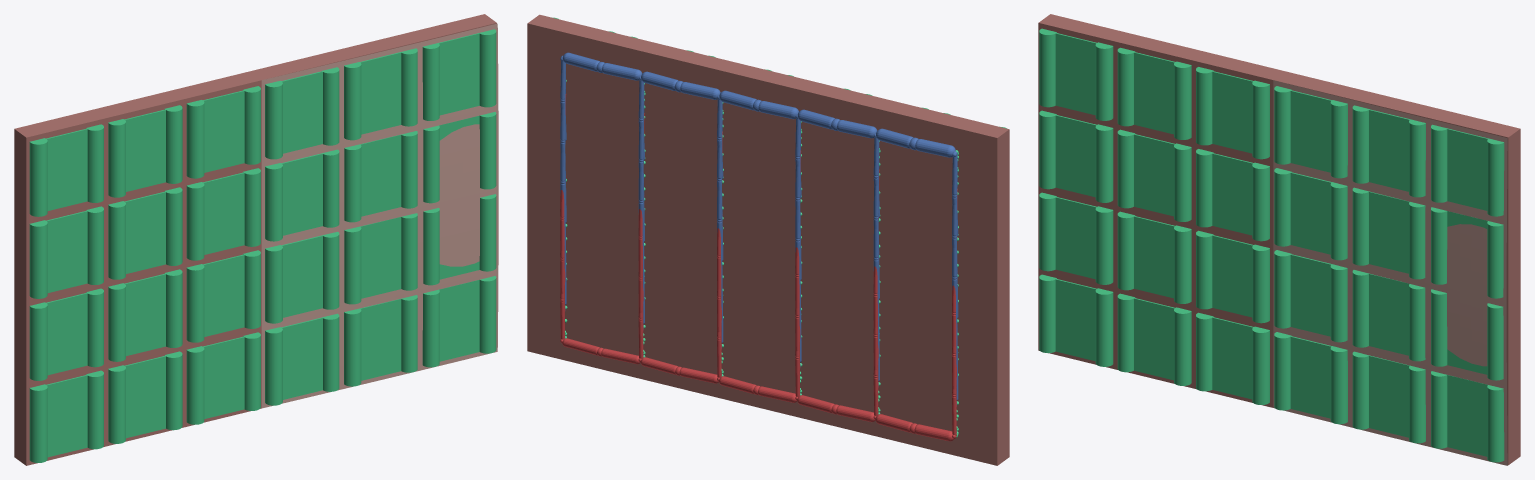
Rendered from dranmar_icg_washout.glb.
3 views of the same model, side by side, from view 1: azimuth 30°, elevation 25°; view 2: azimuth 150°, elevation 25°; view 3: azimuth 330°, elevation 25° (orthographic).
Visible parts, largest first — view 1: TissueBulk, TissueSurface, Overlay_11, Overlay_10, Overlay_9, Overlay_4, Overlay_7, Overlay_1, Overlay_5, Overlay_6, Overlay_8, Overlay_0 (+14 smaller); view 2: TissueBulk, VT0, VT1, VT2, VT3, VT4, AT0, AT1, AT2, AT3, AT4, VB05 (+5 smaller); view 3: TissueBulk, TissueSurface, Overlay_4, Overlay_5, Overlay_1, Overlay_2, Overlay_3, Overlay_6, Overlay_0, Overlay_7, Overlay_10, Overlay_11 (+14 smaller).
Boxes of the visible parts, x1,y1,x2,y2 form: TissueBulk: [14, 14, 496, 465]; TissueSurface: [261, 23, 498, 408]; Overlay_11: [186, 86, 260, 178]; Overlay_10: [186, 168, 260, 260]; Overlay_9: [186, 250, 260, 342]; Overlay_4: [108, 351, 182, 443]; Overlay_7: [108, 105, 182, 197]; Overlay_1: [29, 288, 103, 380]; Overlay_5: [108, 269, 182, 361]; Overlay_6: [108, 187, 182, 279]; Overlay_8: [186, 332, 260, 424]; Overlay_0: [29, 370, 103, 462]; TissueBulk: [527, 14, 1009, 465]; VT0: [876, 128, 955, 157]; VT1: [797, 109, 877, 138]; VT2: [719, 90, 798, 119]; VT3: [641, 71, 720, 99]; VT4: [562, 52, 642, 80]; AT0: [875, 414, 953, 441]; AT1: [797, 395, 875, 422]; AT2: [719, 376, 796, 402]; AT3: [640, 357, 718, 383]; AT4: [562, 338, 640, 364]; VB05: [560, 63, 566, 304]; TissueBulk: [1038, 14, 1520, 465]; TissueSurface: [1273, 80, 1507, 465]; Overlay_4: [1117, 293, 1191, 385]; Overlay_5: [1117, 211, 1191, 303]; Overlay_1: [1039, 192, 1113, 284]; Overlay_2: [1039, 110, 1113, 202]; Overlay_3: [1039, 28, 1113, 120]; Overlay_6: [1117, 129, 1191, 221]; Overlay_0: [1039, 274, 1113, 366]; Overlay_7: [1117, 47, 1191, 139]; Overlay_10: [1196, 149, 1269, 241]; Overlay_11: [1196, 67, 1269, 159].
Size of the model in its own units: 0.18 by 0.12 by 0.0168.
